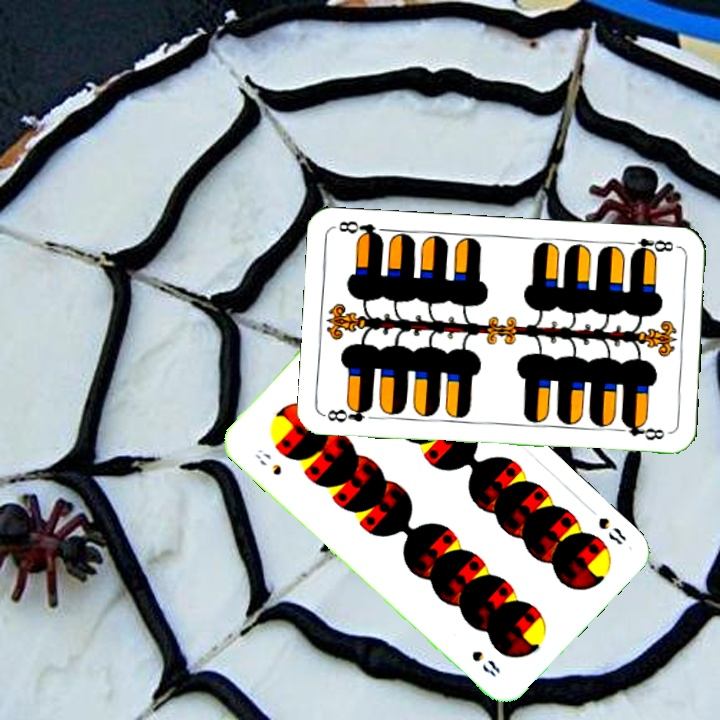E8: (622, 234, 676, 259), (321, 401, 375, 425)
S8: (583, 502, 629, 548), (250, 445, 284, 479)
